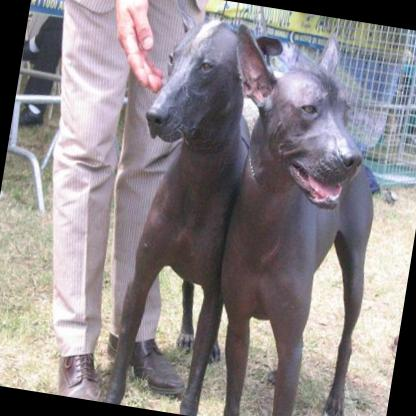Mexican_hairless: (176, 20, 401, 416), (98, 0, 290, 416)
